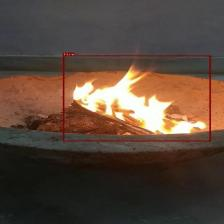fire: (63, 55, 210, 142)
